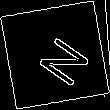N_NW: (22, 24, 88, 86)
